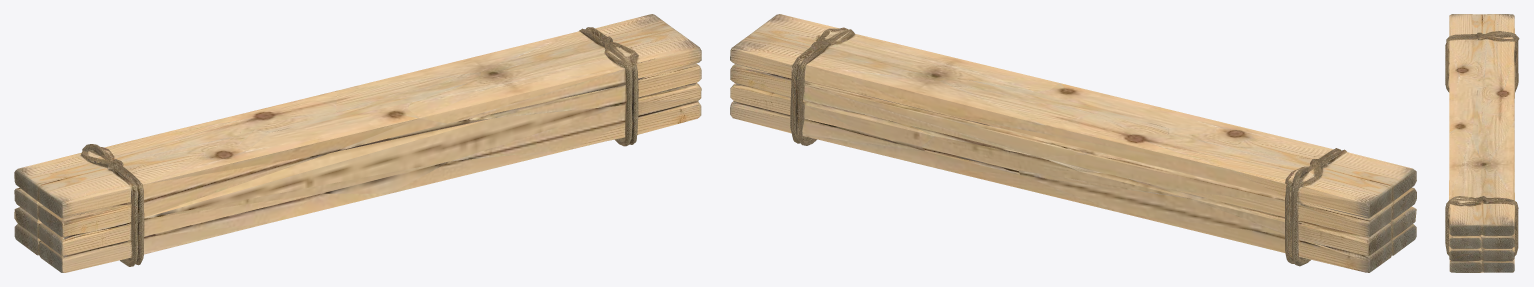
File: planks.glb
The picture shows the model from 3 angles, left to right: view 1: azimuth 30°, elevation 25°; view 2: azimuth 150°, elevation 25°; view 3: azimuth 270°, elevation 25°; orthographic projection. The views are drawn at different scales.
Parts seen in each view (by area): view 1: planks; view 2: planks; view 3: planks.
Part boxes in pixels (bbox=[...]): planks: bbox=[14, 14, 701, 272]; planks: bbox=[730, 14, 1416, 272]; planks: bbox=[1445, 14, 1519, 272].
Bounding box in the file's own units: 1.2 × 0.1695 × 0.1775.
1 material, 1 textured.
